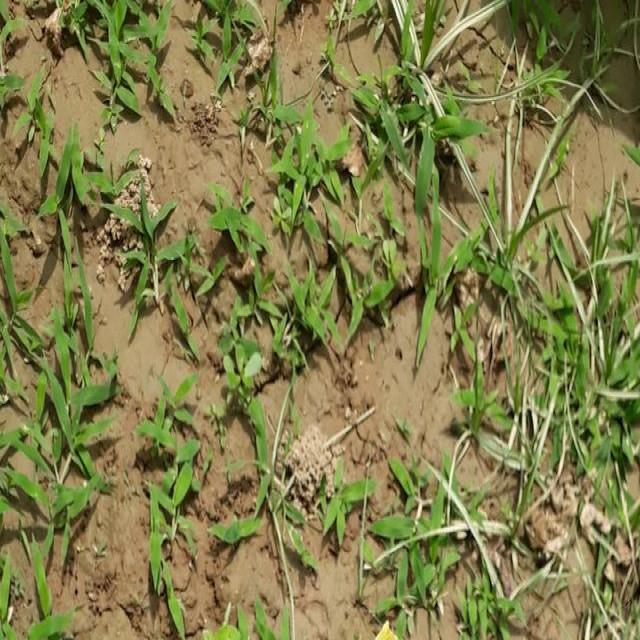weed: (449, 202, 640, 640), (164, 131, 416, 389), (0, 95, 118, 592), (37, 0, 290, 106)
